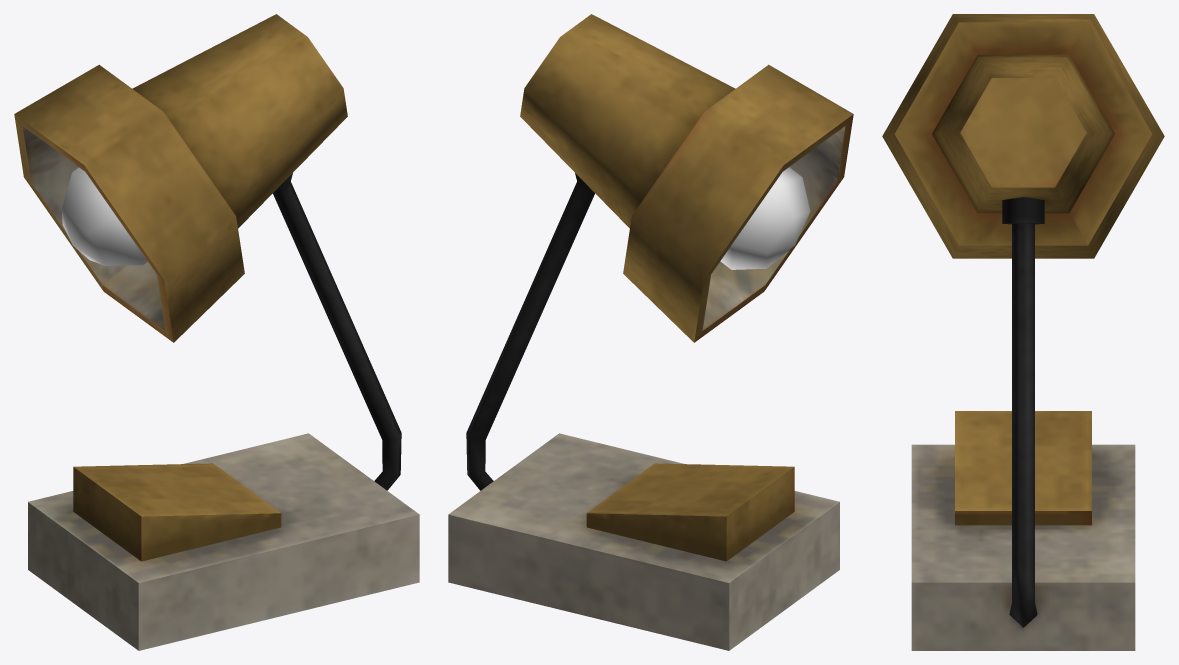
File: lamp_table.fbx
The picture shows the model from 3 angles, left to right: view 1: azimuth 30°, elevation 25°; view 2: azimuth 150°, elevation 25°; view 3: azimuth 270°, elevation 25°; orthographic projection.
Visible parts, largest first — view 1: lamp_table_01, lamp_table_02; view 2: lamp_table_01, lamp_table_02; view 3: lamp_table_01.
Part boxes in pixels (x1,y1,x2,y2): lamp_table_01: (14, 14, 419, 650); lamp_table_02: (61, 167, 147, 265); lamp_table_01: (448, 14, 853, 650); lamp_table_02: (720, 167, 810, 269); lamp_table_01: (882, 14, 1164, 650).
Bounding box in the file's own units: 27.88 × 40.38 × 19.24.
2 materials, 1 textured.
